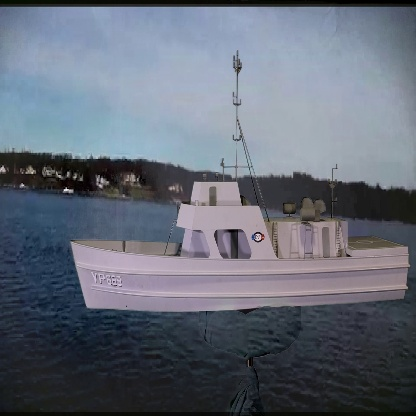YP689: (71, 52, 410, 316)
